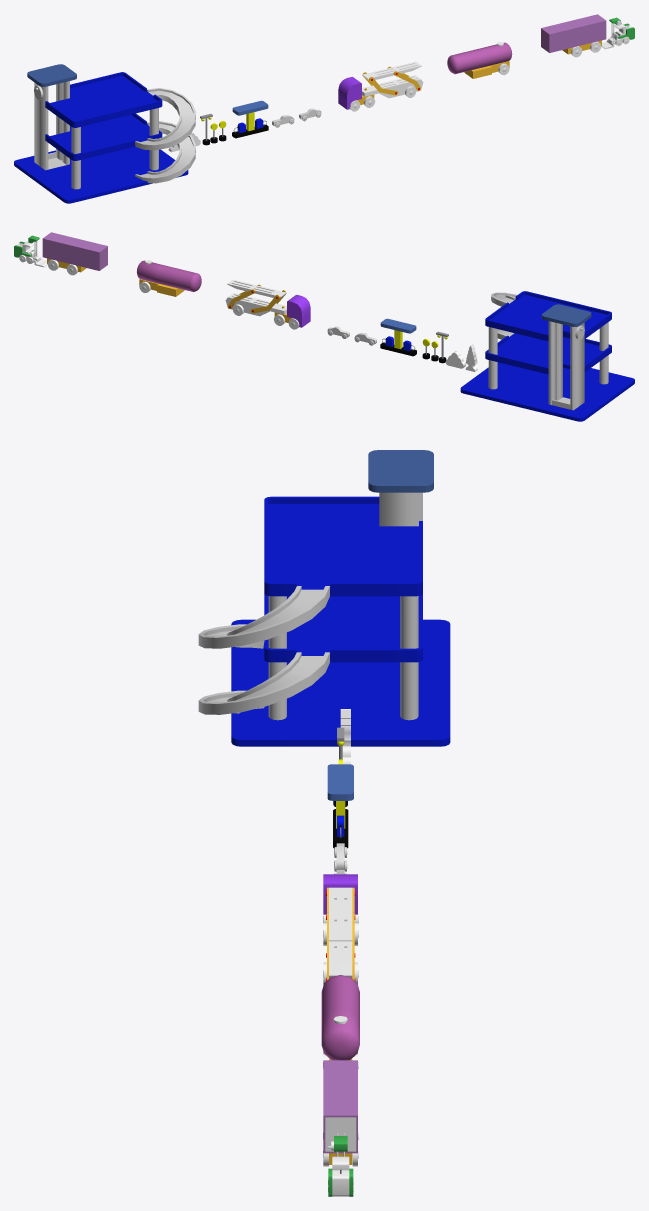
Rendered from ParkingToys_low.fbx.
The picture shows the model from 3 angles, top to bottom: view 1: azimuth 30°, elevation 25°; view 2: azimuth 150°, elevation 25°; view 3: azimuth 270°, elevation 25°; orthographic projection. The views are drawn at different scales.
Parts seen in each view (by area): view 1: ParkingGarage_low, ParkingGarage_Ramp_low, ParkingGarage_Parts_low, Freight_Trailer_low, OilTanker_low, PetrolStation_low, Lorry_low, CarTransporter_Base_low, CarTransporter_Top_low; view 2: ParkingGarage_low, ParkingGarage_Parts_low, Freight_Trailer_low, OilTanker_low, PetrolStation_low, Lorry_low, CarTransporter_Base_low, CarTransporter_Top_low, ParkingGarage_Ramp_low; view 3: ParkingGarage_low, ParkingGarage_Ramp_low, ParkingGarage_Parts_low, OilTanker_low, Freight_Trailer_low, PetrolStation_low, CarTransporter_Top_low.
Boxes of the visible parts, bbox=[...] form: ParkingGarage_low: bbox=[14, 64, 188, 203]; ParkingGarage_Ramp_low: bbox=[135, 88, 196, 183]; ParkingGarage_Parts_low: bbox=[34, 81, 158, 189]; Freight_Trailer_low: bbox=[541, 14, 606, 54]; OilTanker_low: bbox=[447, 42, 512, 78]; PetrolStation_low: bbox=[232, 100, 268, 138]; Lorry_low: bbox=[338, 77, 374, 109]; CarTransporter_Base_low: bbox=[362, 75, 423, 98]; CarTransporter_Top_low: bbox=[362, 61, 421, 80]; ParkingGarage_low: bbox=[460, 291, 634, 421]; ParkingGarage_Parts_low: bbox=[488, 321, 608, 410]; Freight_Trailer_low: bbox=[42, 232, 107, 272]; OilTanker_low: bbox=[137, 260, 201, 296]; PetrolStation_low: bbox=[380, 318, 416, 356]; Lorry_low: bbox=[274, 295, 310, 327]; CarTransporter_Base_low: bbox=[225, 293, 286, 316]; CarTransporter_Top_low: bbox=[227, 279, 286, 298]; ParkingGarage_Ramp_low: bbox=[491, 292, 516, 339]; ParkingGarage_low: bbox=[231, 450, 450, 746]; ParkingGarage_Ramp_low: bbox=[198, 586, 329, 714]; ParkingGarage_Parts_low: bbox=[268, 492, 422, 720]; OilTanker_low: bbox=[321, 975, 359, 1060]; Freight_Trailer_low: bbox=[323, 1060, 357, 1164]; PetrolStation_low: bbox=[327, 764, 353, 848]; CarTransporter_Top_low: bbox=[329, 887, 352, 941].
Size of the model in its own units: 375 by 56 by 68.99.
